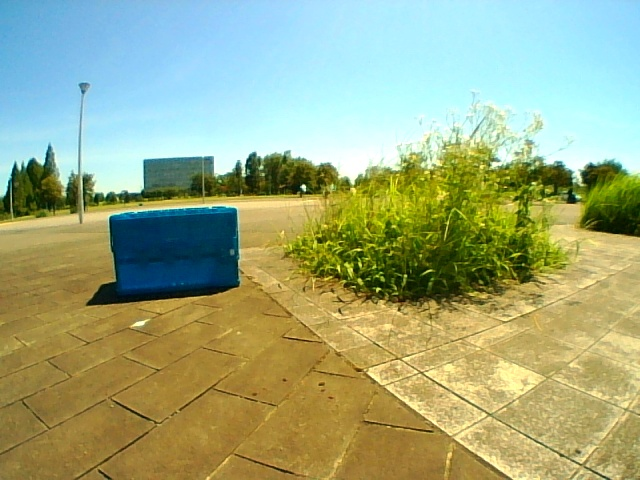blue_box: (120, 211, 234, 286)
